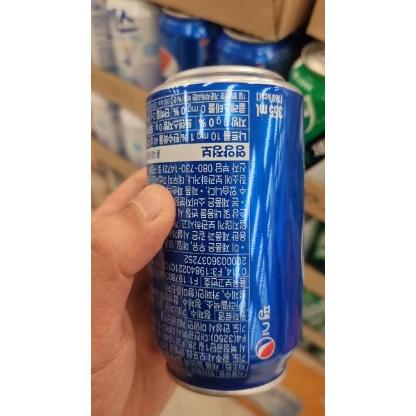Can: (146, 66, 302, 396)
